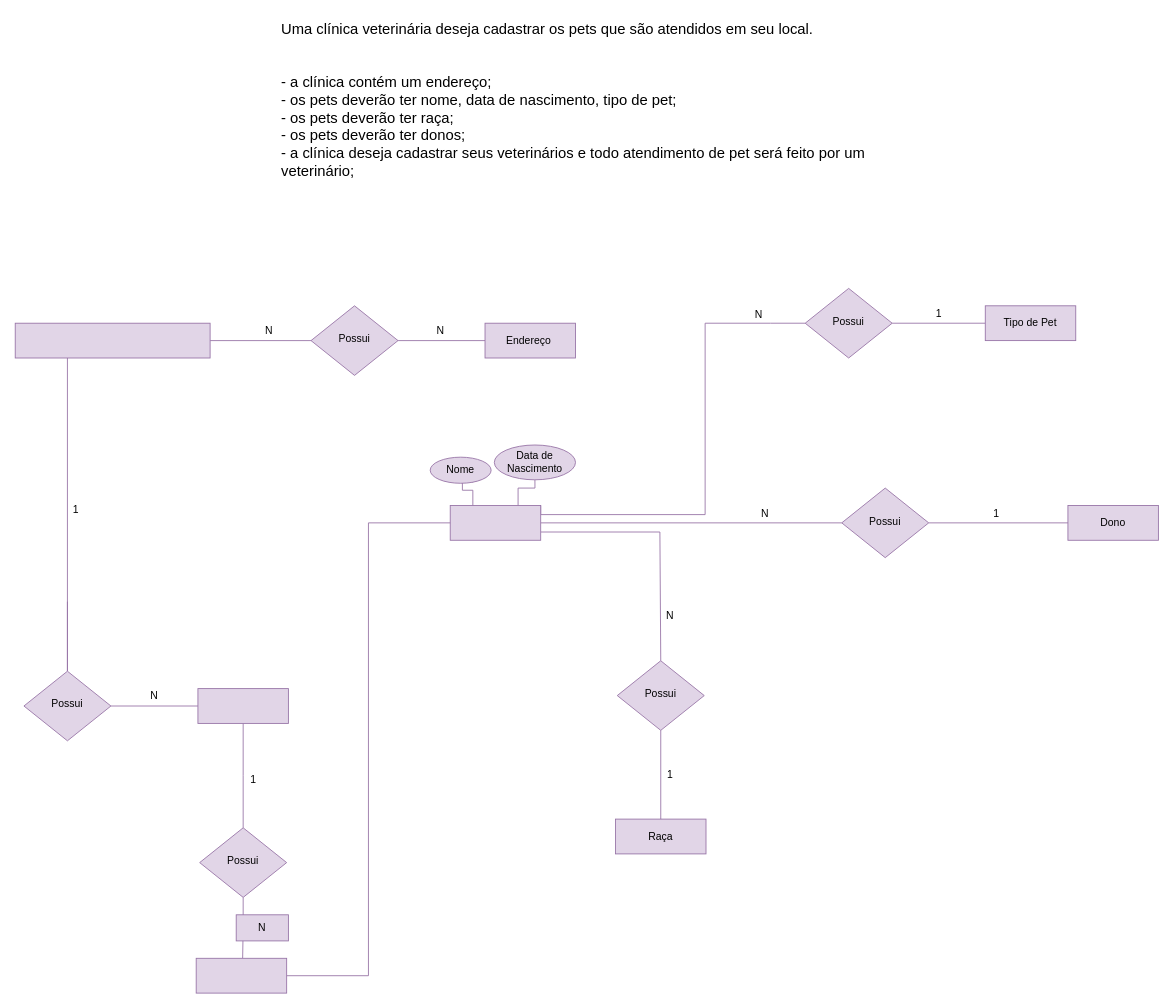
The diagram is 1174 pixels wide and 1008 high, and some of its shapes have lost their labels. The centre of each missing label's shape, as x and y in pixels:
Clínica: point 112,340
Consulta: point 241,975
Pet: point 495,522
Veterinarios: point 242,705
